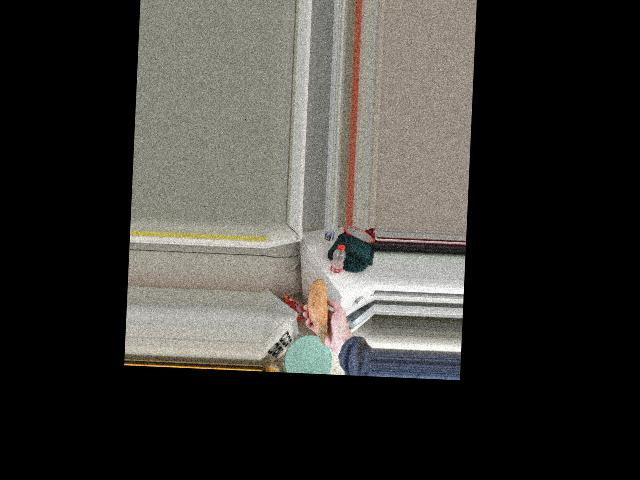sweet_potato: (305, 284, 329, 341)
